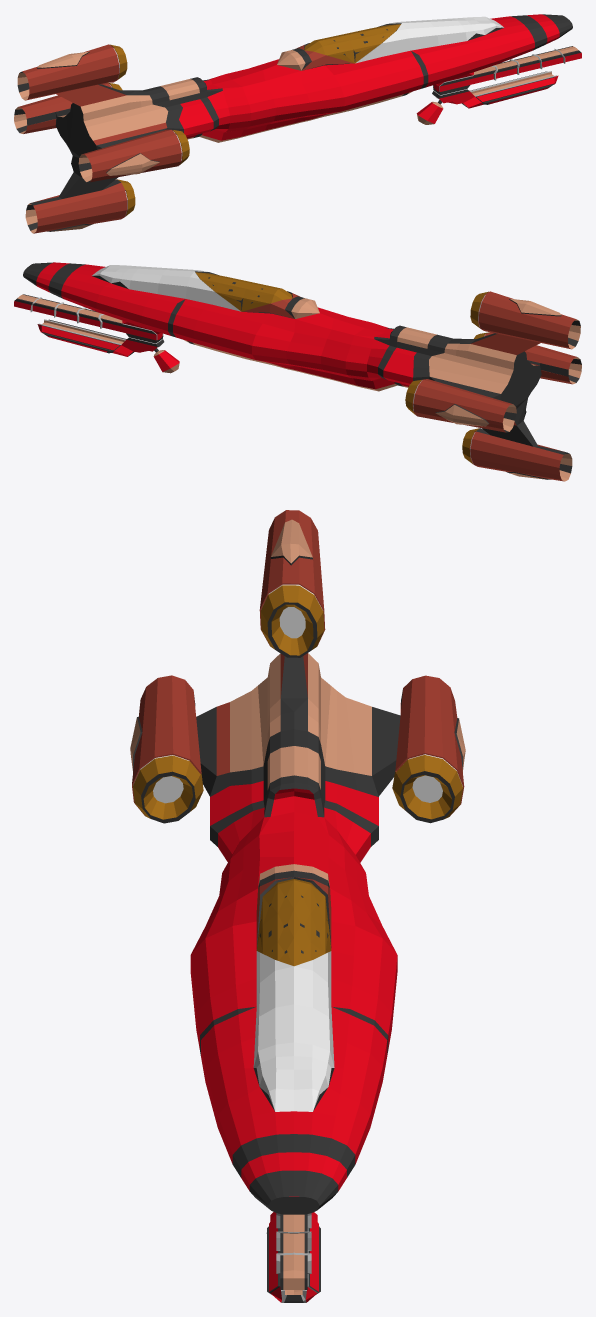
The model's file is WUpg.fbx.
3 renders of one model, top to bottom at view 1: azimuth 30°, elevation 25°; view 2: azimuth 150°, elevation 25°; view 3: azimuth 270°, elevation 25°, orthographic. The views are drawn at different scales.
Parts seen in each view (by area): view 1: SoloWUPG; view 2: SoloWUPG; view 3: SoloWUPG.
Boxes of the visible parts, box(x1,y1,x2,y2) form: SoloWUPG: box(14, 14, 581, 233); SoloWUPG: box(14, 262, 581, 481); SoloWUPG: box(130, 510, 465, 1302).
Size of the model in its own units: 481 by 144 by 126.
